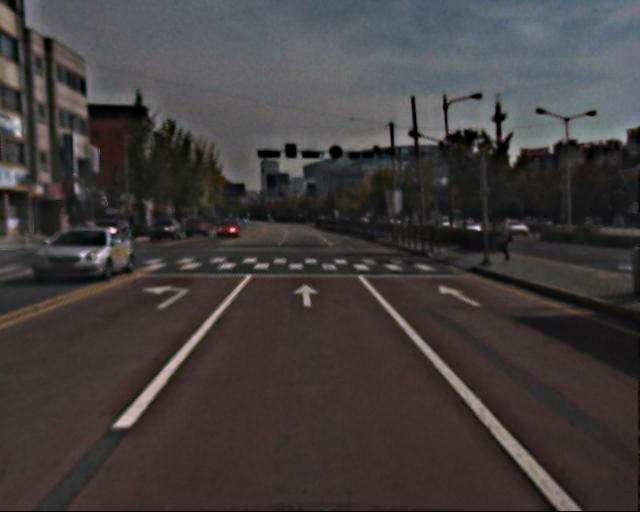person: (493, 215, 514, 268)
